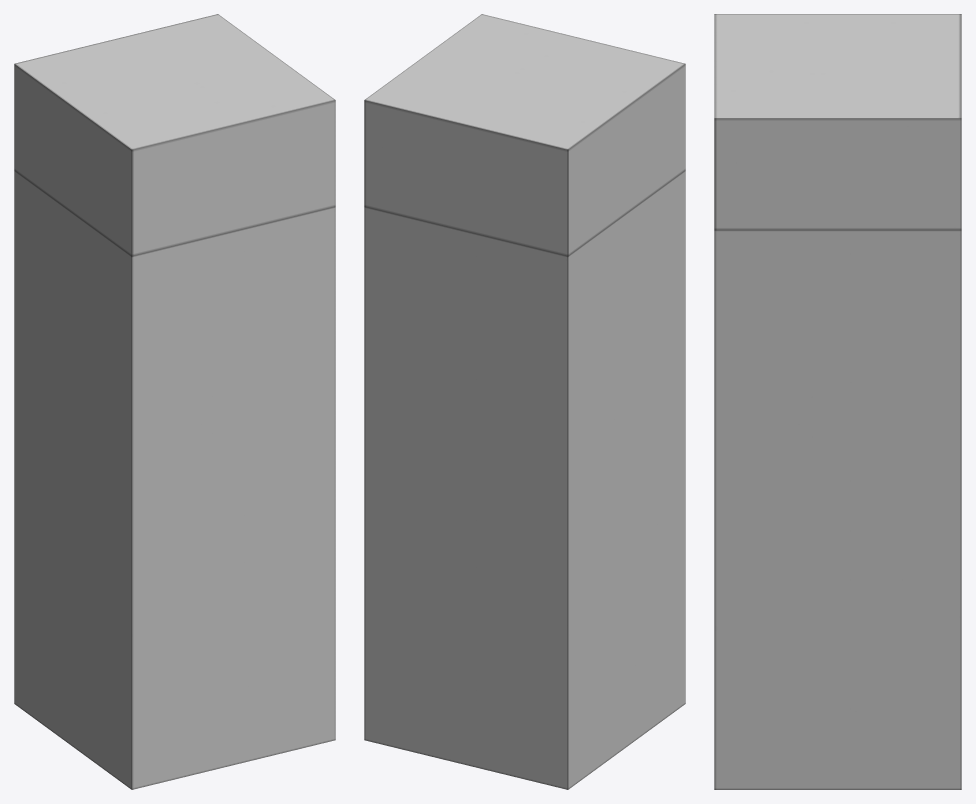
File: Column_01.FBX
3 renders of one model, left to right at view 1: azimuth 30°, elevation 25°; view 2: azimuth 150°, elevation 25°; view 3: azimuth 270°, elevation 25°, orthographic. The views are drawn at different scales.
Parts seen in each view (by area): view 1: Column_01; view 2: Column_01; view 3: Column_01.
Boxes of the visible parts, x1,y1,x2,y2 form: Column_01: [14, 14, 335, 789]; Column_01: [364, 14, 685, 789]; Column_01: [714, 14, 961, 789].
Size of the model in its own units: 2 by 6 by 2.
